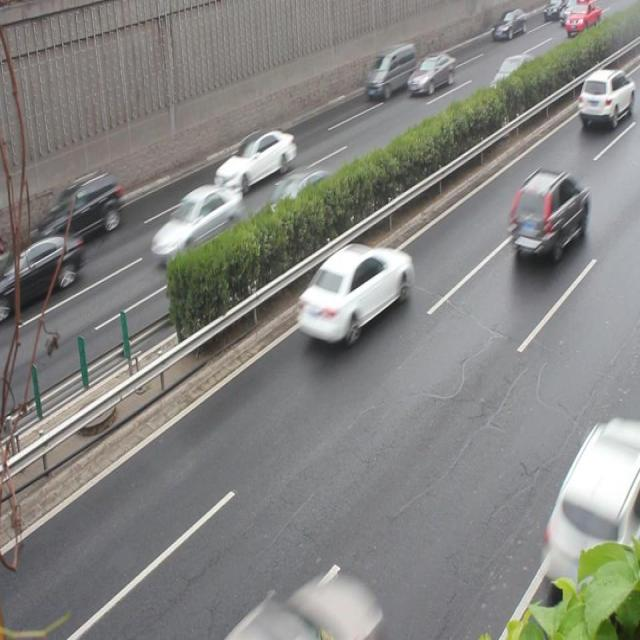car: (295, 244, 409, 347), (150, 186, 242, 266), (508, 171, 586, 263), (31, 170, 122, 246), (1, 231, 84, 307), (252, 170, 336, 242), (214, 130, 294, 194), (577, 70, 632, 131)
